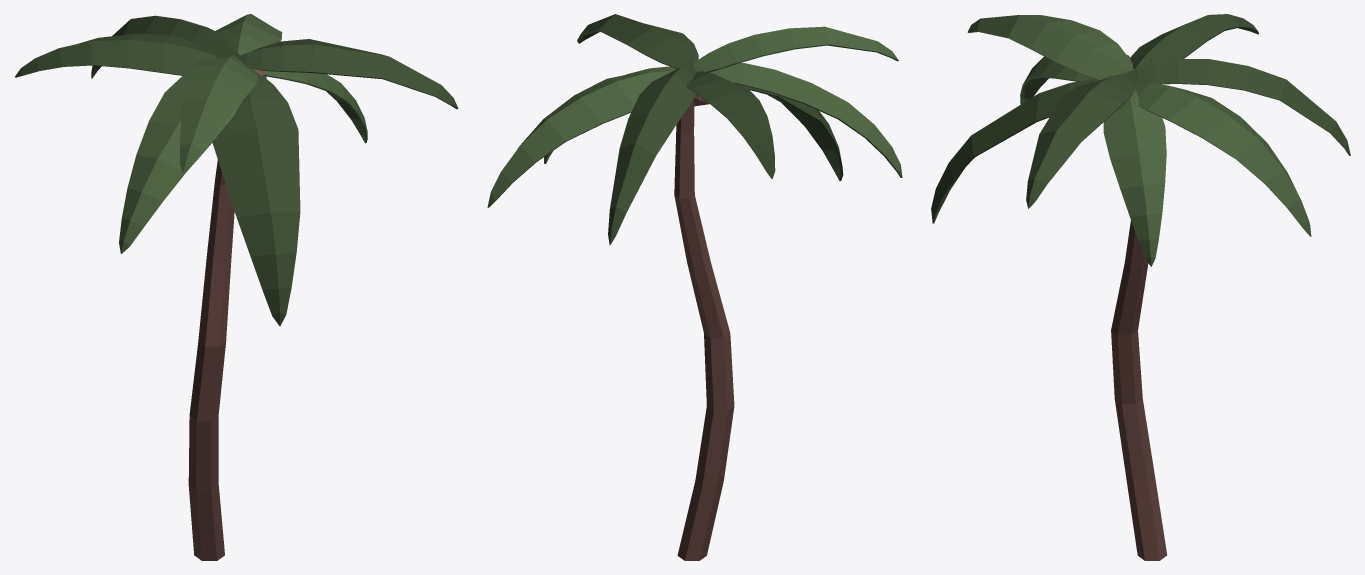
3 renders of one model, left to right at view 1: azimuth 30°, elevation 25°; view 2: azimuth 150°, elevation 25°; view 3: azimuth 270°, elevation 25°, orthographic. The views are drawn at different scales.
Parts seen in each view (by area): view 1: PalmTree_4; view 2: PalmTree_4; view 3: PalmTree_4.
Part boxes in pixels (<box>): PalmTree_4: <box>15,14,458,560</box>; PalmTree_4: <box>487,14,902,560</box>; PalmTree_4: <box>931,14,1350,560</box>.
Size of the model in its own units: 2.34 by 3.47 by 2.59.
